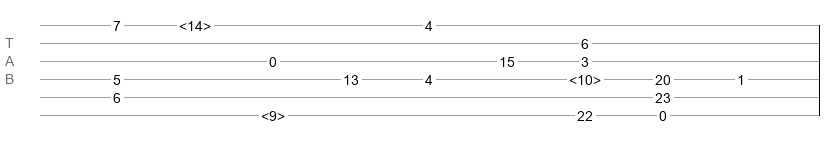0: (269, 54, 277, 64), (659, 108, 667, 118)
1: (737, 72, 745, 82)
13: (343, 72, 359, 82)
15: (499, 54, 515, 64)
20: (655, 72, 671, 82)
22: (577, 108, 593, 118)
23: (655, 90, 671, 100)
3: (581, 54, 589, 64)
4: (425, 18, 433, 28), (425, 72, 433, 82)
5: (113, 72, 121, 82)
6: (113, 90, 121, 100), (581, 36, 589, 46)
7: (113, 18, 121, 28)
harmonic: (179, 18, 211, 28), (569, 72, 601, 82), (261, 108, 285, 118)
